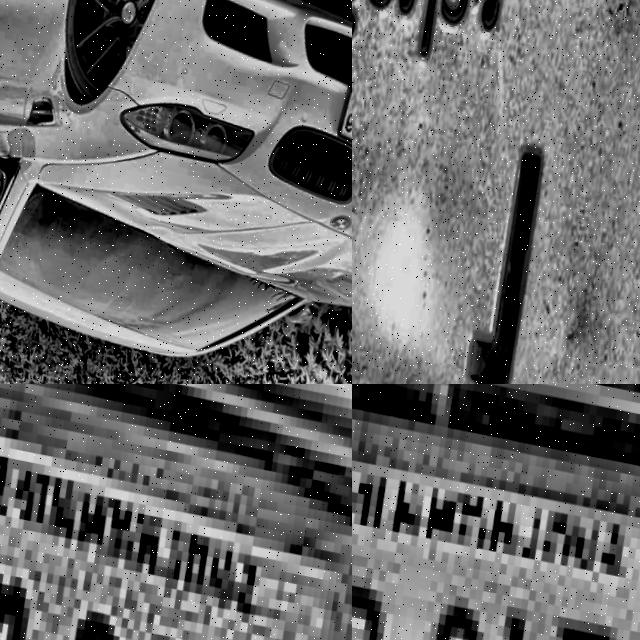license-plate: (352, 0, 640, 384), (0, 384, 352, 640), (352, 384, 640, 640), (321, 73, 352, 171)
